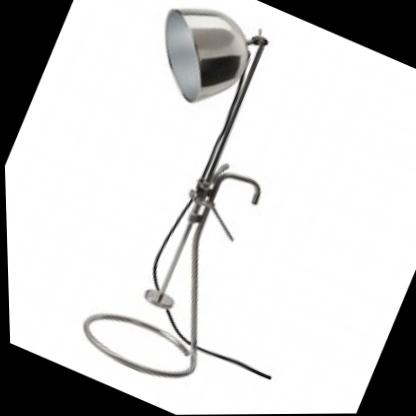Lamp: (8, 0, 398, 416)
